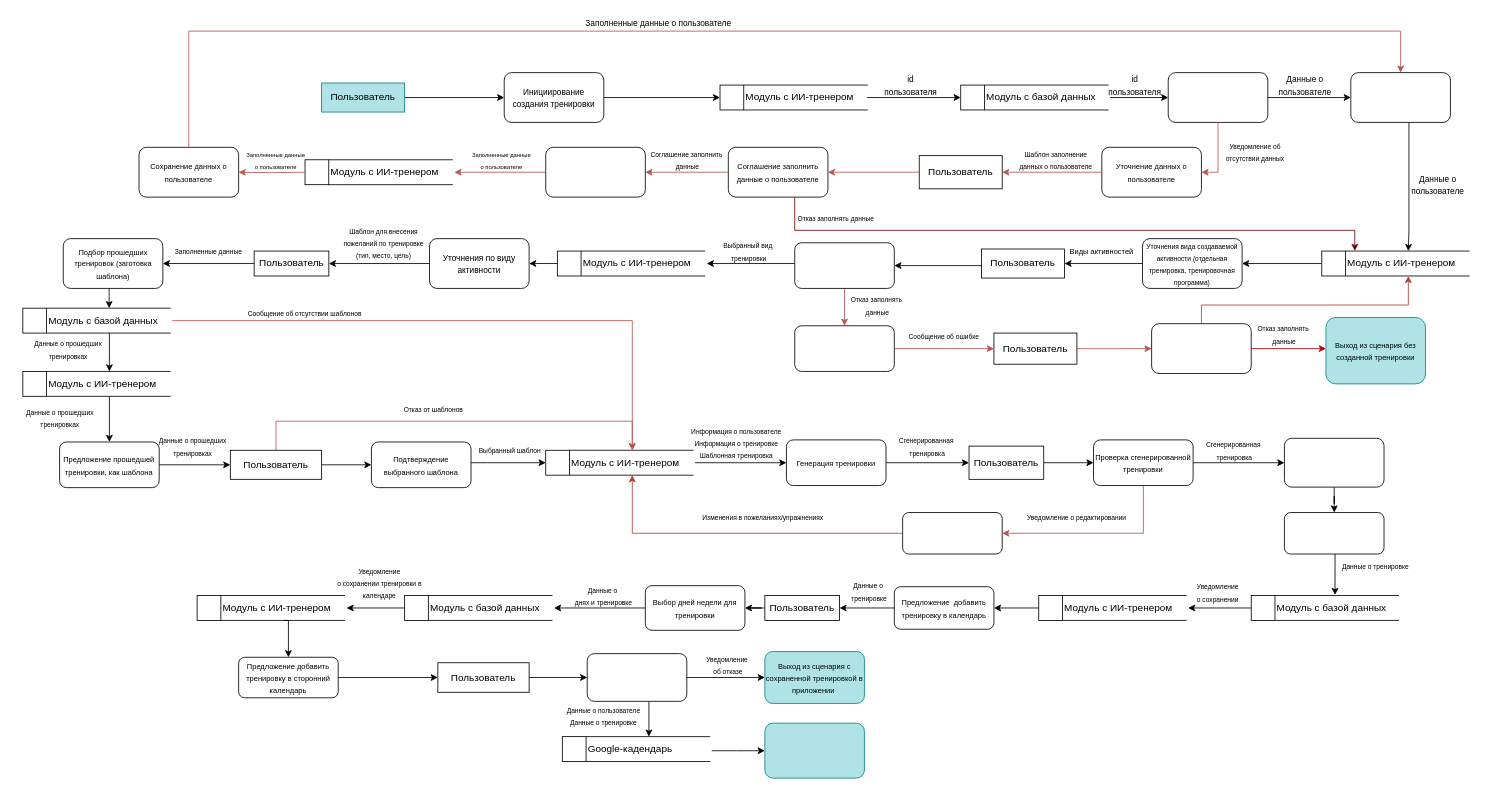
Some shapes in this 1497 by 793 pixel diagram are drawn without their labels. The shapes that lost their labels are listed below. From the top down, each one's centre as x and y in pixels, then its label:
[1217,97]: Проверка наличия данных о пользователе
[1400,97]: Получение данных о пользователе из профиля
[595,171]: Заполнение данных о пользователе
[844,265]: Выбор вида тренировки
[844,348]: Уведомление о невозможности создать тренировку
[1201,348]: Возвращение к основному потоку (возвращение к выбору вида тренировки)
[1334,462]: Подтверждение сгенерированной тренировки
[952,533]: Внесение изменений в сгенерированную тренировку
[1334,533]: Сохранение сгенерированной тренировки
[636,677]: Добавление тренировки в сторонний календарь
[814,750]: Выход из сценария с созданной тренировки и синхронизированными календарями
